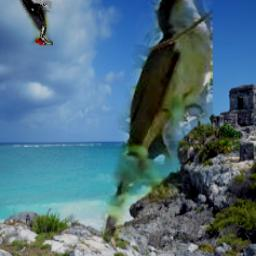Cuckoo: (100, 0, 213, 244)
Woodpecker: (14, 0, 53, 47)
